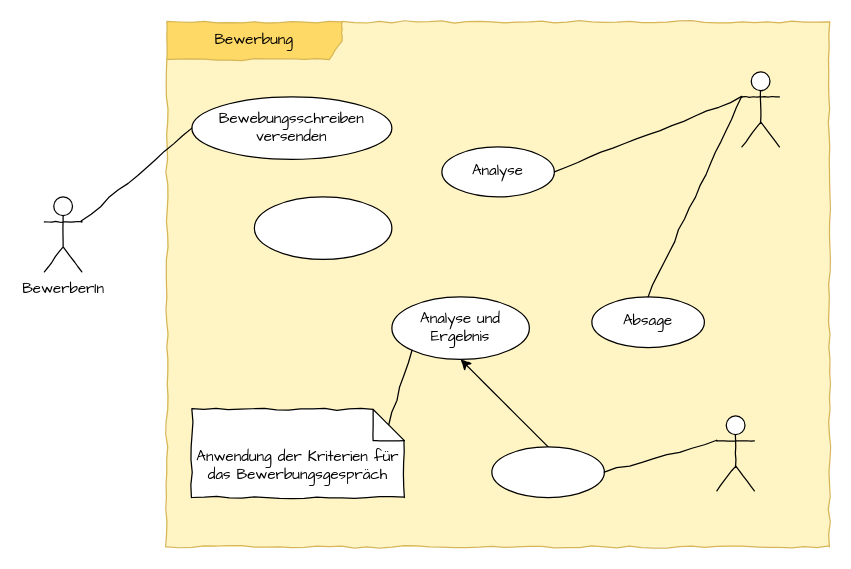
The diagram is 851 pixels wide and 569 high, and some of its shapes have lost their labels. The box of each missing label's shape, as (x1, y1, x2, y2) in pixels:
Einladung zum Interview: (253, 196, 392, 259)
Einstellung: (491, 446, 604, 498)
InterviewerIn: (741, 71, 779, 147)
PersonalchefIn: (716, 415, 754, 491)
